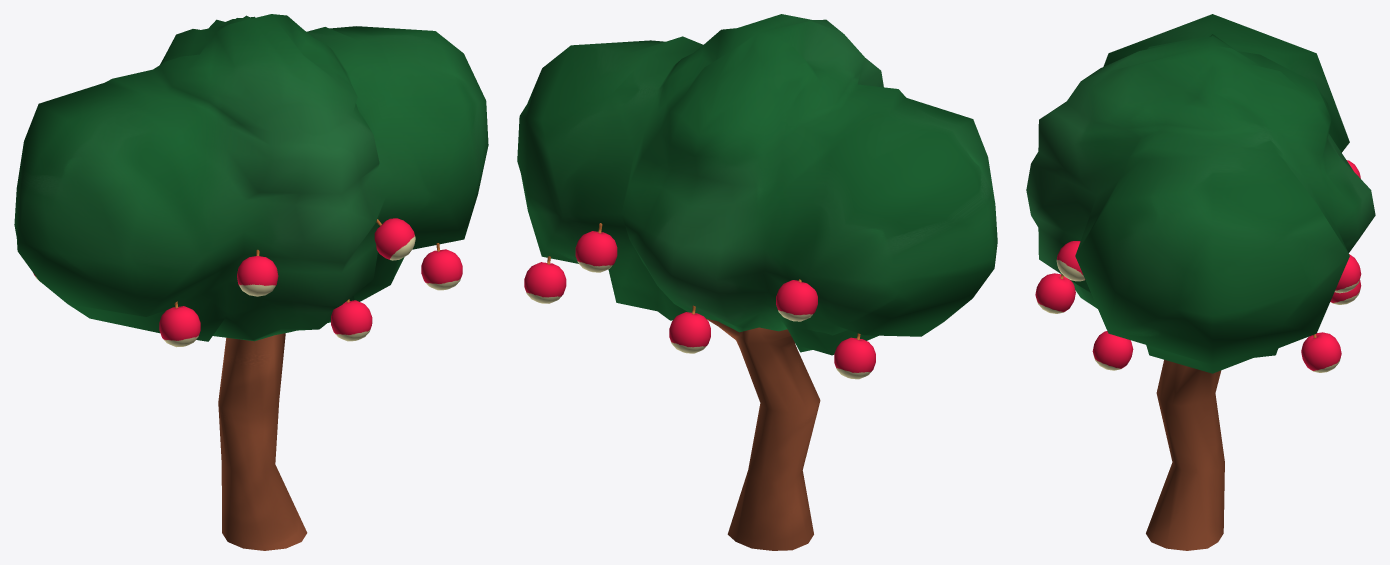
The model's file is AppleTree1.fbx.
3 renders of one model, left to right at view 1: azimuth 30°, elevation 25°; view 2: azimuth 150°, elevation 25°; view 3: azimuth 270°, elevation 25°, orthographic. The views are drawn at different scales.
Parts seen in each view (by area): view 1: Cylinder.001, Cube.018, Cube.013, Cube.011, Cube.015, Cube.009; view 2: Cylinder.001, Cube.003, Cube.005, Cube.001, Cube.017, Cube.002; view 3: Cylinder.001, Cube.005, Cube.009, Cube.018, Cube.015, Cube.003.
Part boxes in pixels (box(x1,y1,x2,y2)): Cylinder.001: box(14, 14, 488, 550); Cube.018: box(421, 243, 462, 290); Cube.013: box(159, 301, 200, 347); Cube.011: box(237, 249, 278, 296); Cube.015: box(374, 218, 415, 260); Cube.009: box(331, 299, 372, 341); Cylinder.001: box(517, 14, 997, 550); Cube.003: box(575, 223, 617, 272); Cube.005: box(524, 256, 566, 303); Cube.001: box(669, 305, 710, 353); Cube.017: box(834, 333, 875, 379); Cube.002: box(776, 279, 817, 321); Cylinder.001: box(1026, 14, 1375, 550); Cube.005: box(1301, 332, 1341, 372); Cube.009: box(1035, 273, 1075, 313); Cube.018: box(1092, 331, 1133, 370); Cube.015: box(1056, 241, 1085, 281); Cube.003: box(1334, 254, 1361, 293).
Bounding box in the file's own units: 925 × 953 × 618.
2 materials, 2 textured.
